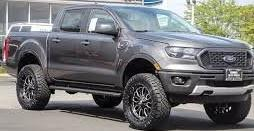Trucks: (5, 5, 254, 131)
